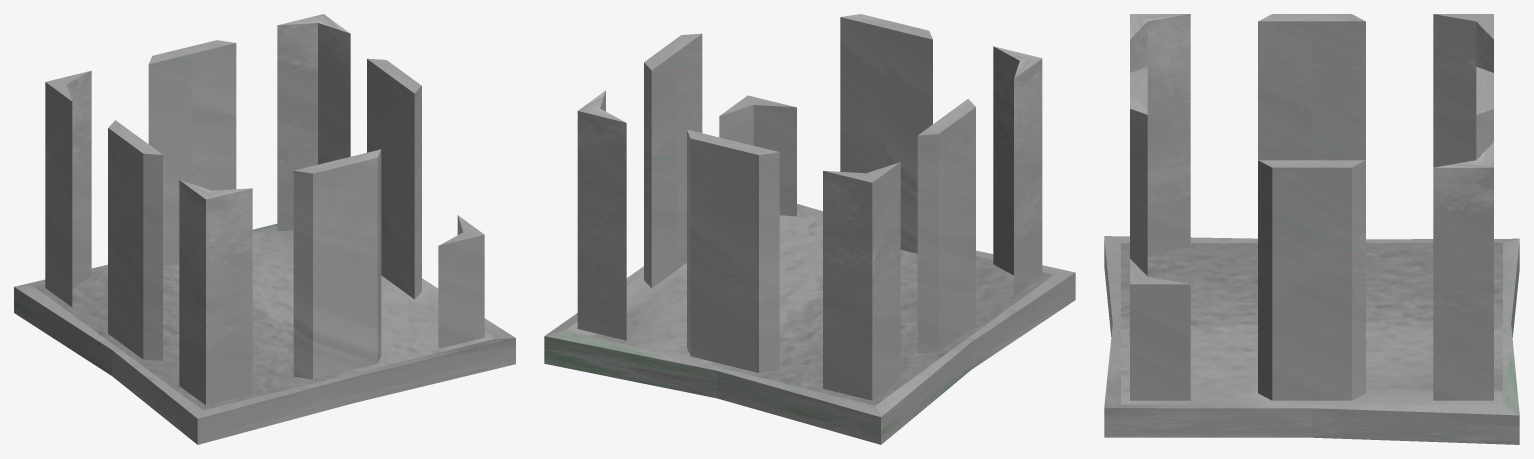
Rendered from Jaula_open.glb.
3 views of the same model, side by side, from view 1: azimuth 30°, elevation 25°; view 2: azimuth 150°, elevation 25°; view 3: azimuth 270°, elevation 25° (orthographic). The views are drawn at different scales.
Parts seen in each view (by area): view 1: L_jaula_open.001; view 2: L_jaula_open.001; view 3: L_jaula_open.001.
Part boxes in pixels (x1,y1,x2,y2): L_jaula_open.001: [14, 14, 515, 444]; L_jaula_open.001: [544, 14, 1075, 444]; L_jaula_open.001: [1104, 14, 1519, 444].
Bounding box in the file's own units: 2.38 × 1.68 × 2.38.
1 material, 1 textured.
